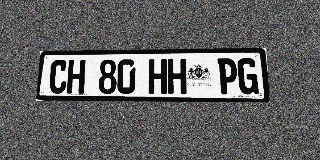0: (117, 59, 136, 94)
8: (98, 59, 117, 94)
C: (48, 60, 68, 94)
G: (237, 58, 259, 94)
H: (66, 60, 86, 94), (148, 59, 167, 94), (168, 59, 186, 94)
P: (217, 58, 238, 94)
